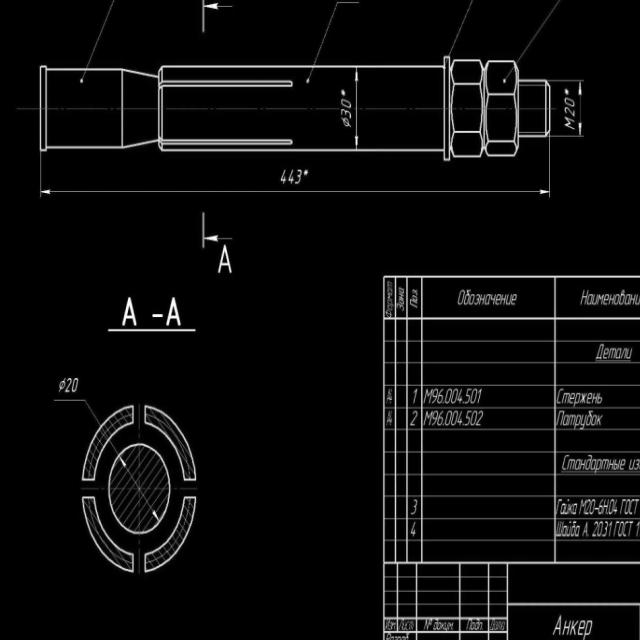marking_line: (37, 161, 552, 197), (121, 458, 159, 521), (551, 78, 585, 140), (201, 211, 234, 249), (201, 0, 234, 33), (354, 69, 361, 149)
numeric: (215, 243, 234, 276), (165, 296, 183, 327), (122, 295, 138, 327), (564, 116, 576, 130), (409, 410, 418, 428), (464, 388, 472, 406), (476, 410, 485, 426), (410, 499, 418, 517), (444, 387, 452, 404), (563, 105, 575, 116), (564, 96, 576, 107), (294, 168, 302, 184), (445, 410, 453, 426), (451, 410, 459, 426), (410, 521, 417, 539), (340, 100, 352, 110), (470, 388, 478, 403), (288, 167, 295, 184), (470, 409, 477, 426), (280, 168, 287, 184), (431, 410, 438, 426), (452, 388, 459, 404), (465, 410, 472, 426), (341, 109, 352, 119), (65, 378, 72, 393), (71, 378, 78, 393), (437, 411, 444, 426), (433, 389, 439, 404), (412, 388, 418, 403), (477, 388, 482, 405), (438, 389, 444, 403), (458, 411, 463, 427), (459, 388, 463, 403)
special_symbol: (340, 115, 352, 130), (59, 374, 66, 394), (564, 87, 571, 96), (340, 88, 347, 97), (303, 168, 309, 176)
